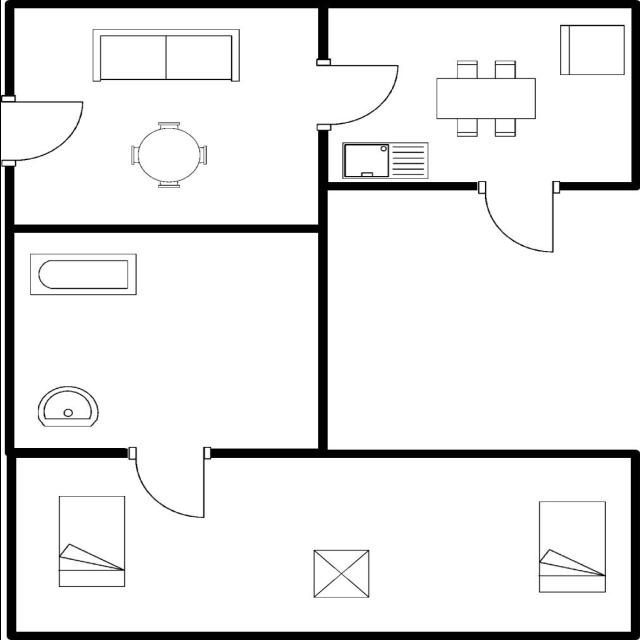bed: (532, 496, 610, 596), (52, 492, 130, 590)
coffee_table: (306, 545, 372, 600)
dining_table: (433, 54, 539, 140)
large_sofa: (87, 24, 245, 88)
round_table: (128, 118, 212, 190)
sink: (338, 138, 432, 180)
small_sink: (32, 380, 104, 430)
small_sofa: (556, 21, 628, 79)
tub: (26, 250, 140, 298)
